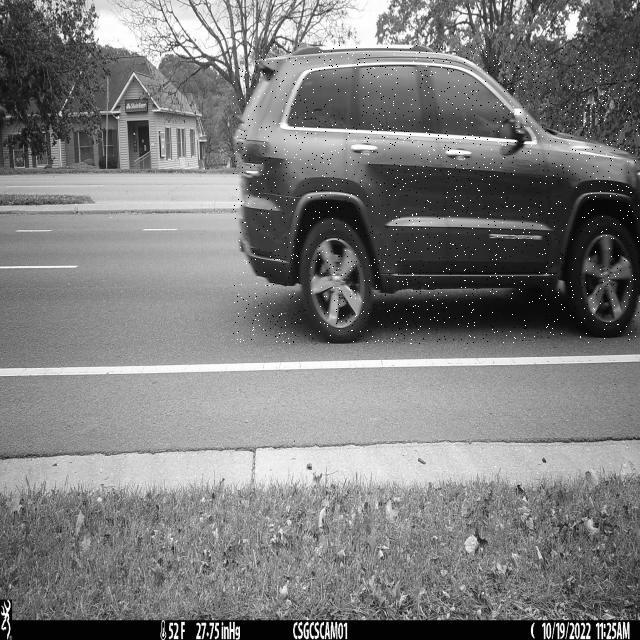SUV: (233, 45, 640, 344)
